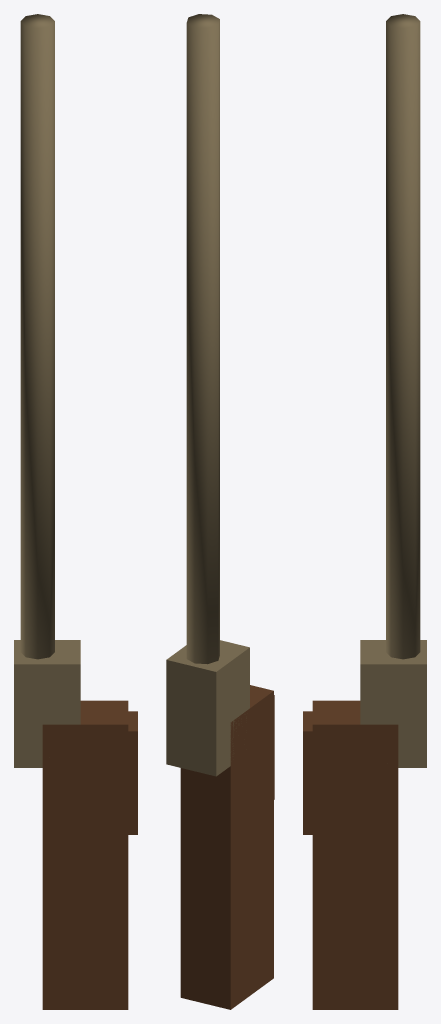
The model's file is clockwork_assault_rifle.glb.
3 views of the same model, side by side, from view 1: azimuth 90°, elevation 25°; view 2: azimuth 150°, elevation 25°; view 3: azimuth 270°, elevation 25° (orthographic).
Parts seen in each view (by area): view 1: clockwork_assault_rifle_v0; view 2: clockwork_assault_rifle_v0; view 3: clockwork_assault_rifle_v0.
Boxes of the visible parts, x1,y1,x2,y2 form: clockwork_assault_rifle_v0: (14,14,137,1009); clockwork_assault_rifle_v0: (166,14,274,1009); clockwork_assault_rifle_v0: (303,14,426,1009).
Size of the model in its own units: 0.06 by 1.13 by 0.13.
